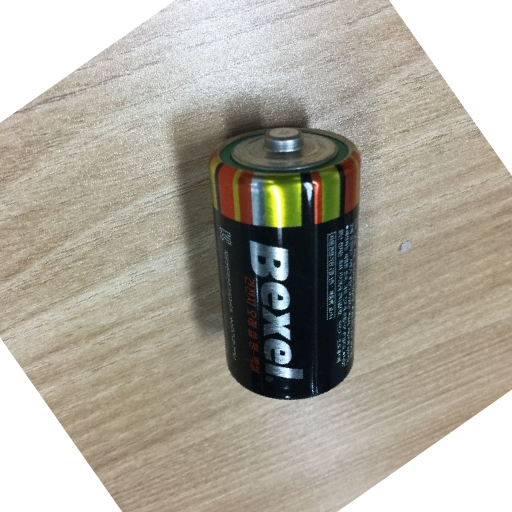Battery_0: (202, 113, 367, 404)
